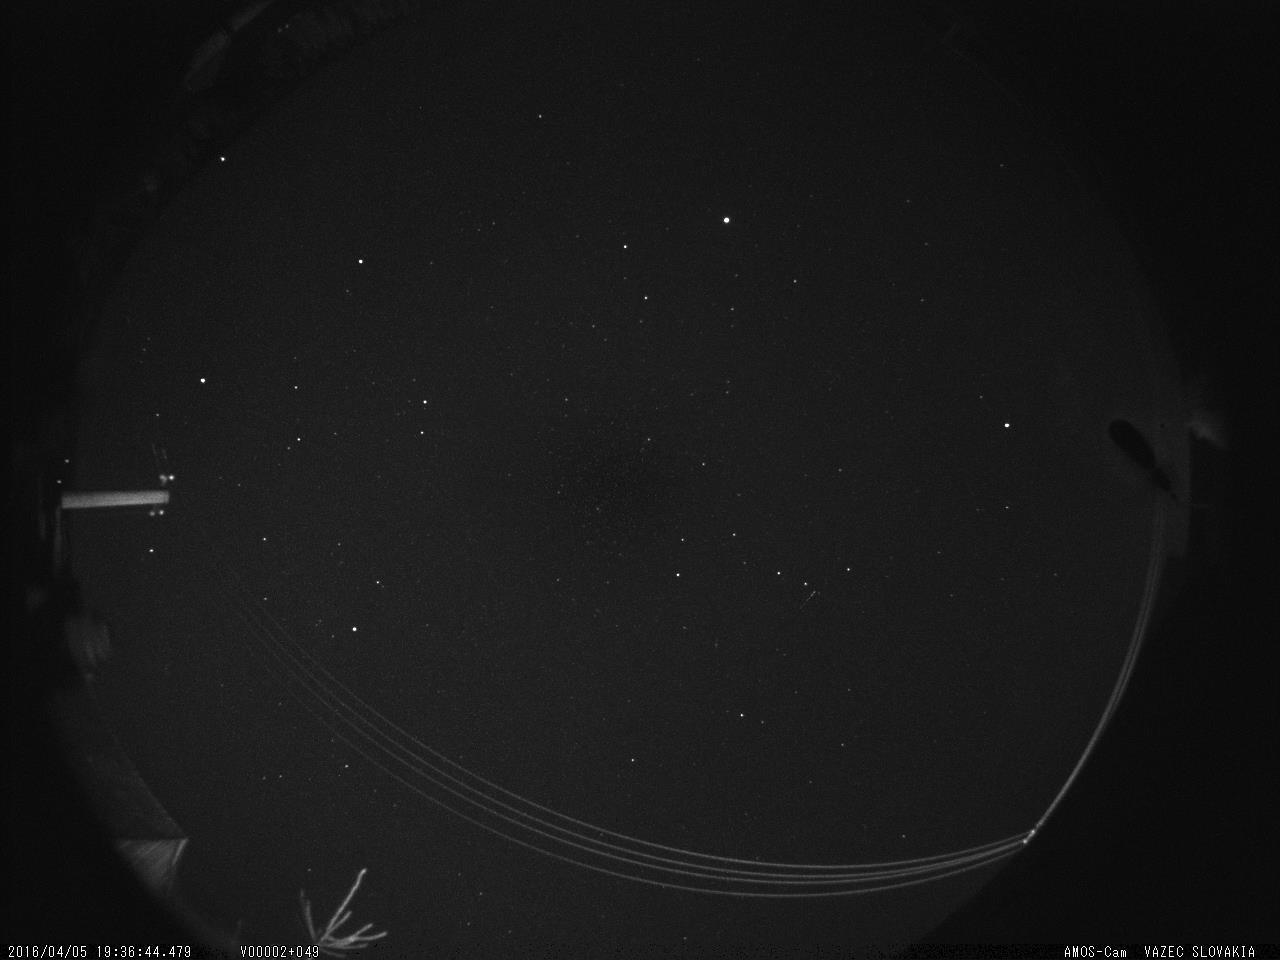Meteor: (798, 580, 822, 621)
